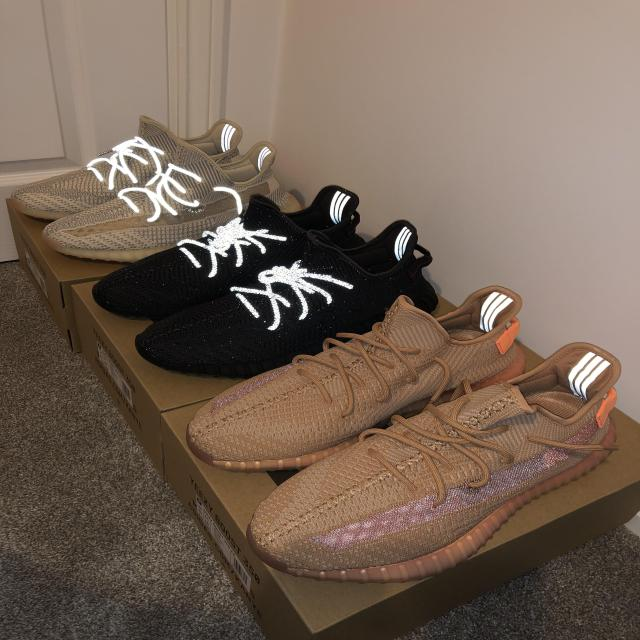shoes: (234, 335, 631, 608), (177, 273, 550, 492), (132, 211, 449, 391), (87, 173, 370, 338), (39, 132, 290, 278), (7, 106, 250, 236)
